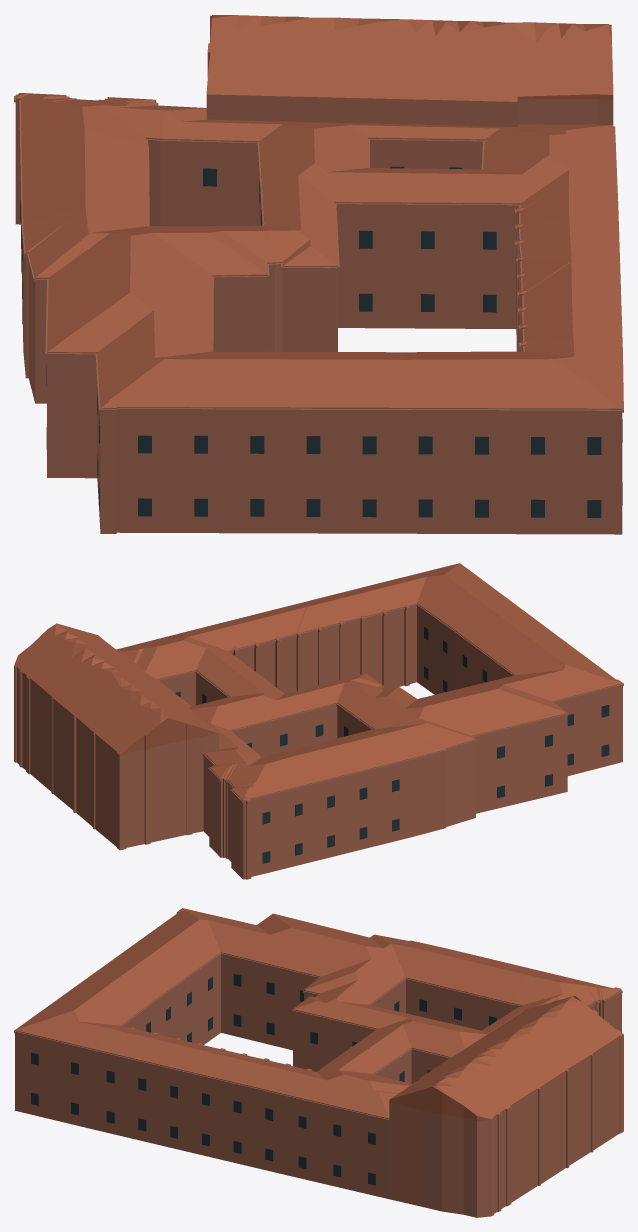
Rendered from accademia-venice.glb.
3 renders of one model, top to bottom at view 1: azimuth 30°, elevation 25°; view 2: azimuth 150°, elevation 25°; view 3: azimuth 270°, elevation 25°, orthographic. The views are drawn at different scales.
Visible parts, largest first — view 1: primary-roof, primary-envelope, former-church-roof, former-church, cornice, window-rhythm; view 2: primary-envelope, primary-roof, former-church, former-church-roof, cornice, window-rhythm; view 3: primary-envelope, primary-roof, former-church, former-church-roof, window-rhythm, cornice.
Part boxes in pixels (x1,y1,x2,y2): primary-roof: (15,93,622,408); primary-envelope: (15,95,622,534); former-church-roof: (206,14,613,101); former-church: (206,42,613,127); cornice: (14,96,623,413); window-rhythm: (20,166,622,517); primary-envelope: (157,603,622,879); primary-roof: (116,563,622,800); former-church: (14,667,218,850); former-church-roof: (14,623,218,755); cornice: (158,569,623,803); window-rhythm: (175,626,609,863); primary-envelope: (15,912,621,1198); primary-roof: (15,908,621,1118); former-church: (389,1035,623,1217); former-church-roof: (389,996,623,1121); window-rhythm: (31,973,496,1185); cornice: (14,909,622,1121).
Bounding box in the file's own units: 14.26 × 3.57 × 16.
